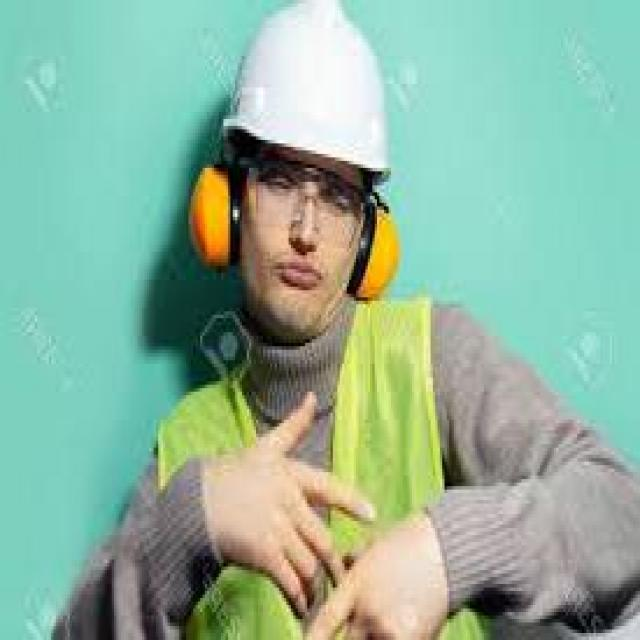Reflective-Jacket: (135, 290, 470, 630)
Safety-Helmet: (207, 3, 400, 196)
